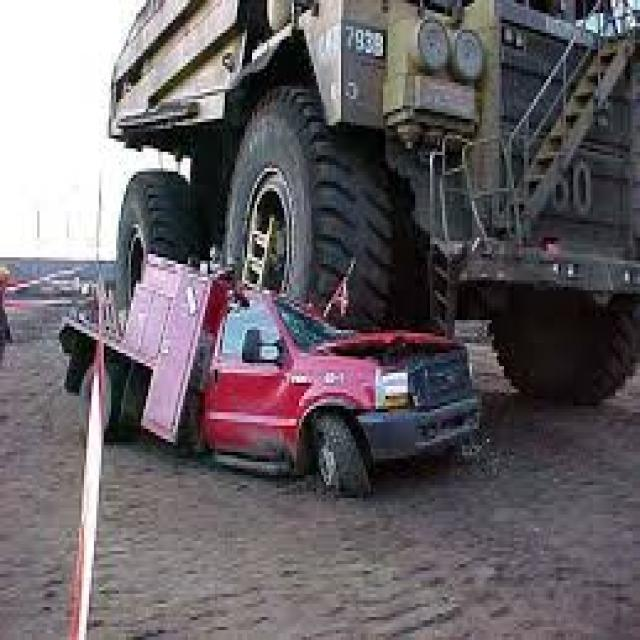light_vehicle: (69, 152, 559, 584)
